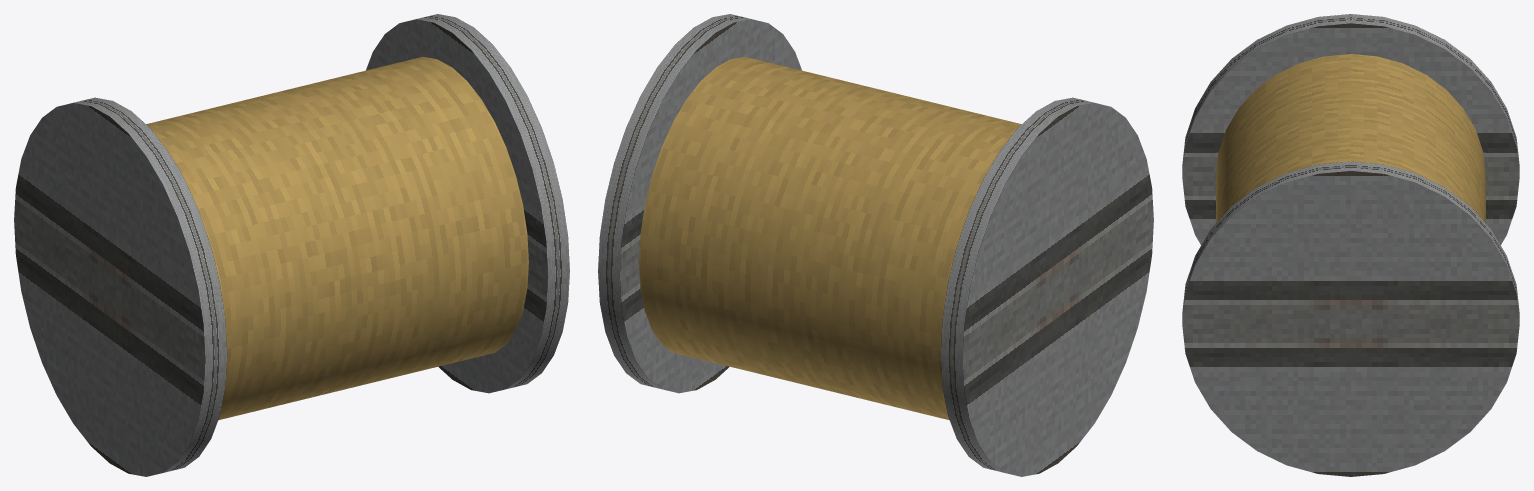
Rendered from coupling.glb.
3 renders of one model, left to right at view 1: azimuth 30°, elevation 25°; view 2: azimuth 150°, elevation 25°; view 3: azimuth 270°, elevation 25°, orthographic. The views are drawn at different scales.
Visible parts, largest first — view 1: barrel, flange (×2); view 2: barrel, flange (×2); view 3: flange (×2), barrel.
Part boxes in pixels (x1=…): barrel: x1=146, y1=56, x2=528, y2=420; flange (×2): x1=14, y1=14, x2=569, y2=476; barrel: x1=639, y1=56, x2=1021, y2=420; flange (×2): x1=598, y1=14, x2=1153, y2=476; flange (×2): x1=1182, y1=14, x2=1519, y2=476; barrel: x1=1216, y1=54, x2=1485, y2=222.
Bounding box in the file's own units: 0.11 × 0.1 × 0.1.
2 materials, 2 textured.
